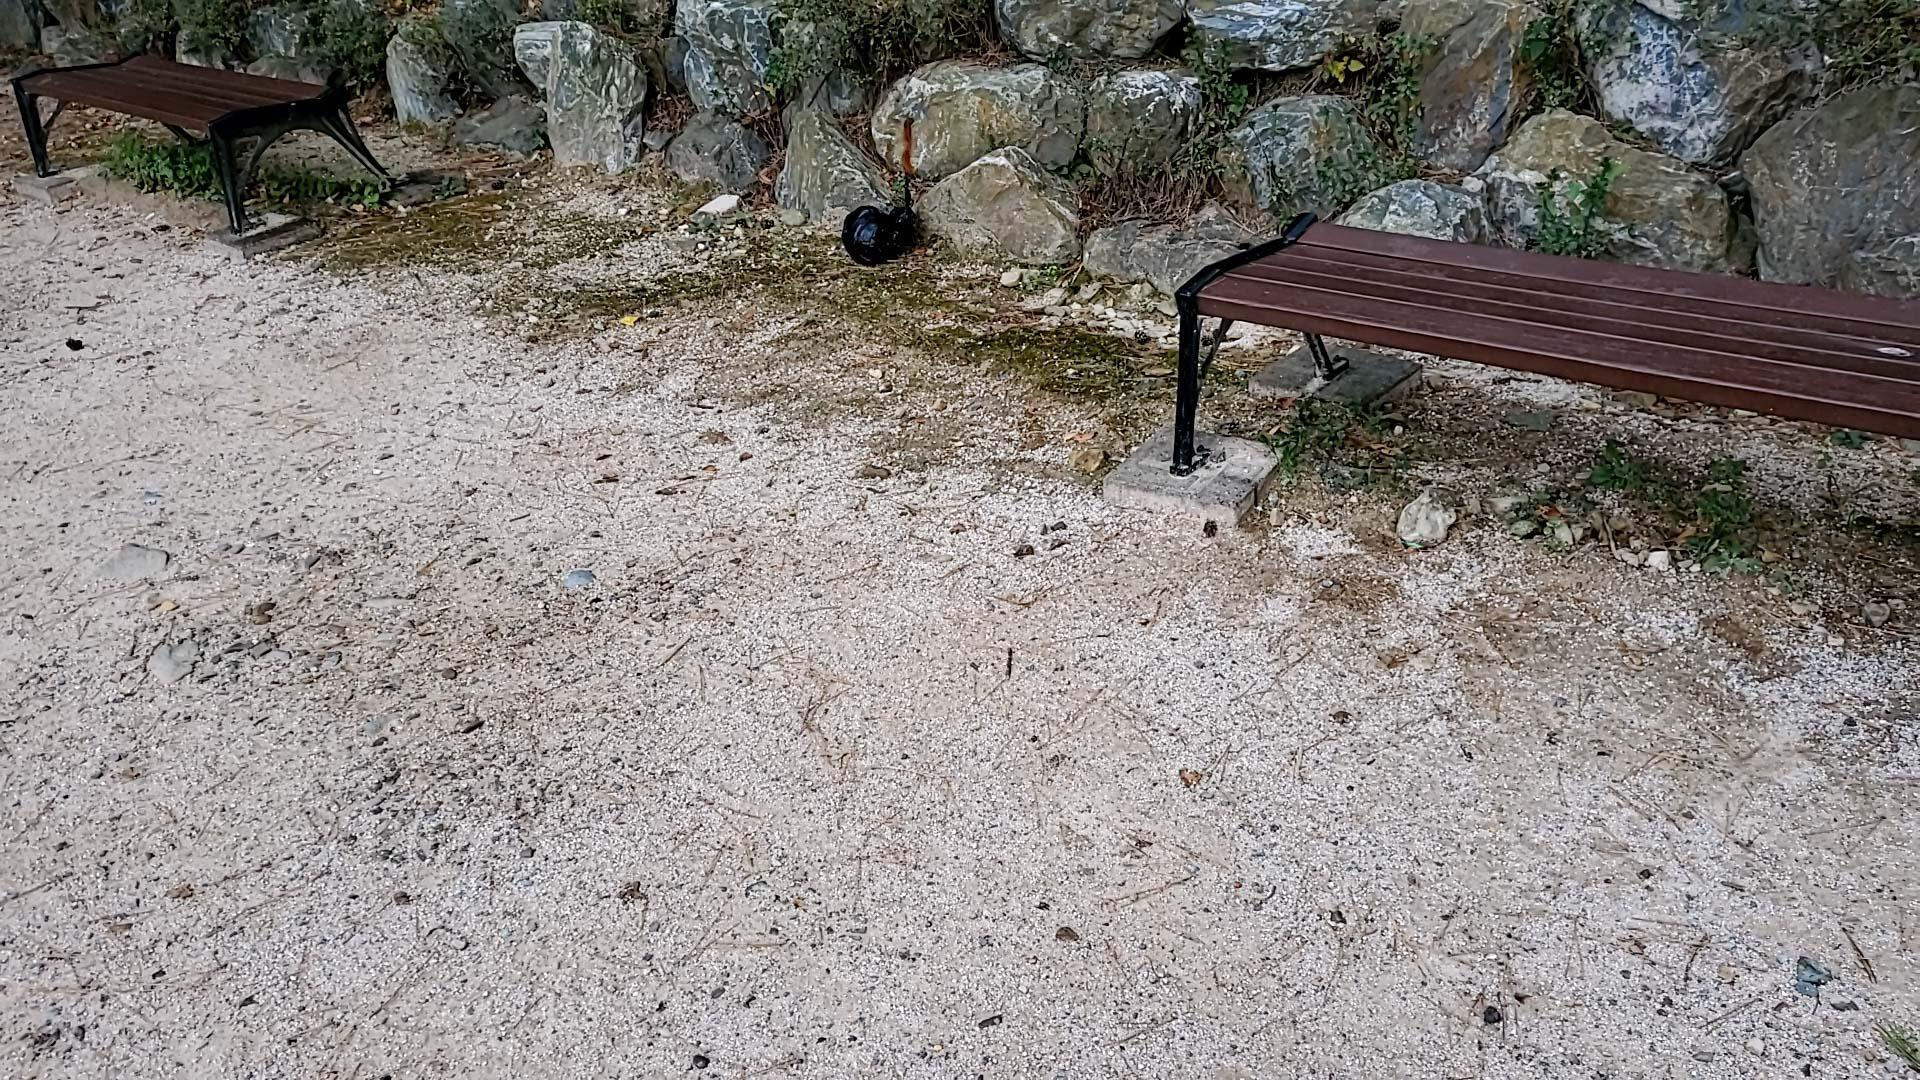white_bag: (837, 198, 926, 272)
